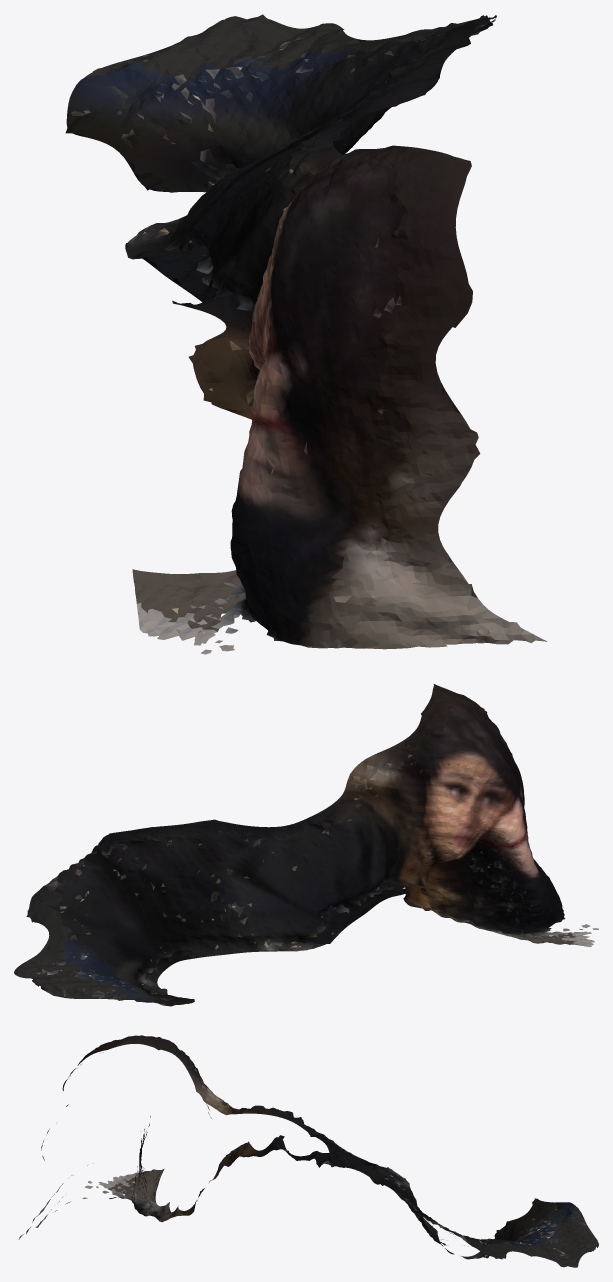
The picture shows the model from 3 angles, top to bottom: view 1: azimuth 30°, elevation 25°; view 2: azimuth 150°, elevation 25°; view 3: azimuth 270°, elevation 25°; orthographic projection. The views are drawn at different scales.
Size of the model in its own units: 0.6739 by 0.3792 by 0.9819.
1 material, 1 textured.
